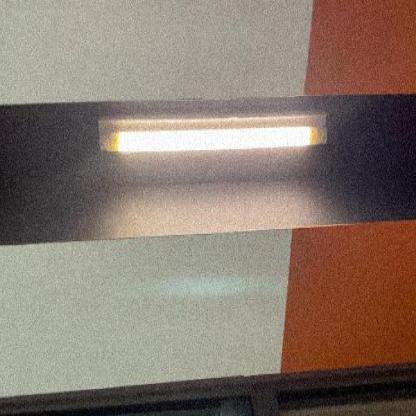light_on: (92, 92, 332, 172)
